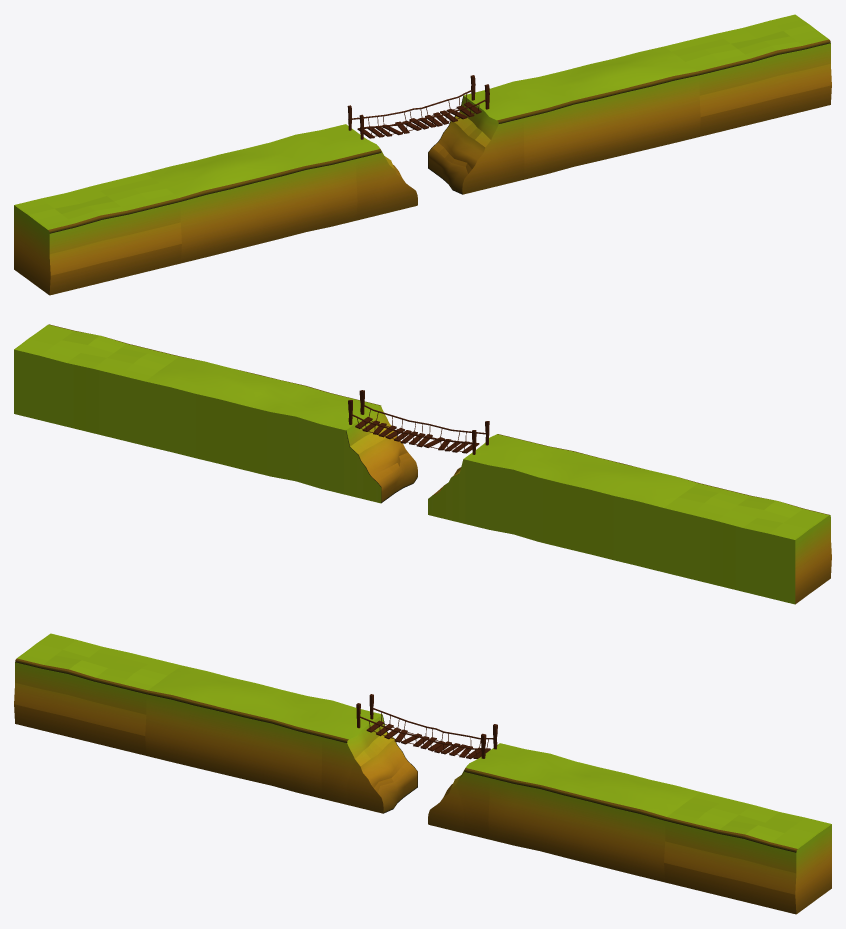
File: PontFinal.FBX
3 views of the same model, one above another, from view 1: azimuth 30°, elevation 25°; view 2: azimuth 150°, elevation 25°; view 3: azimuth 330°, elevation 25° (orthographic).
Parts seen in each view (by area): view 1: Terrain2, Terrain1, Box022; view 2: Terrain2, Terrain1, Box022; view 3: Terrain1, Terrain2, Box022.
Part boxes in pixels (left/top/right/bottom): Terrain2: left=428, top=14, right=831, bottom=194; Terrain1: left=14, top=124, right=417, bottom=295; Box022: left=347, top=75, right=489, bottom=139; Terrain2: left=14, top=324, right=417, bottom=503; Terrain1: left=428, top=434, right=831, bottom=604; Box022: left=348, top=390, right=489, bottom=454; Terrain1: left=14, top=633, right=417, bottom=813; Terrain2: left=428, top=743, right=831, bottom=914; Box022: left=356, top=694, right=497, bottom=759.
Size of the model in its own units: 500 by 54.2 by 40.72.
